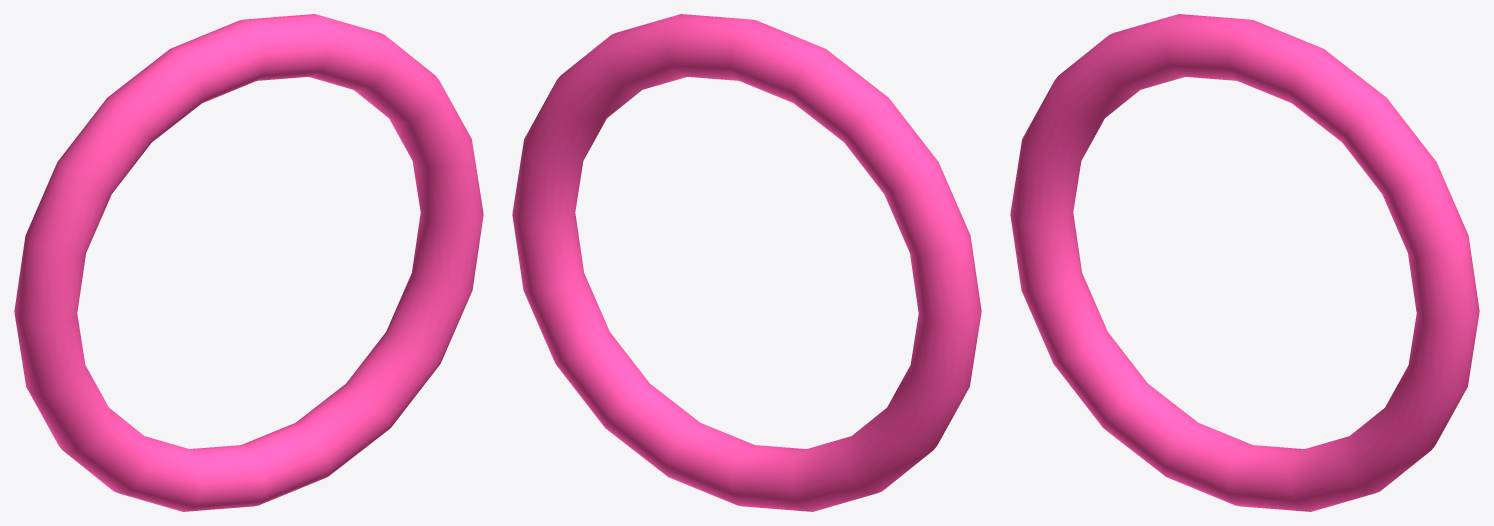
3 renders of one model, left to right at view 1: azimuth 30°, elevation 25°; view 2: azimuth 150°, elevation 25°; view 3: azimuth 330°, elevation 25°, orthographic.
Visible parts, largest first — view 1: Continuous rounded O ring; view 2: Continuous rounded O ring; view 3: Continuous rounded O ring.
Part boxes in pixels (x1,y1,x2,y2): Continuous rounded O ring: [14, 14, 483, 511]; Continuous rounded O ring: [512, 14, 981, 511]; Continuous rounded O ring: [1010, 14, 1479, 511].
Size of the model in its own units: 1.23 by 1.23 by 0.146.
